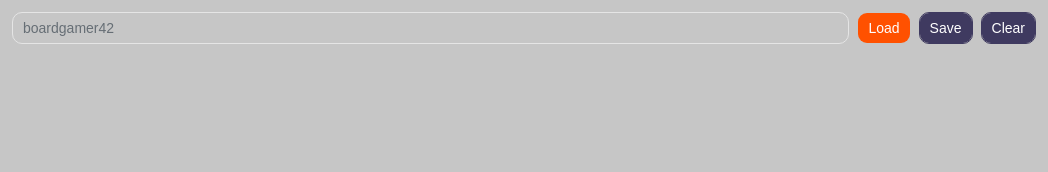
Scenario: UsernameForm › Clear button › Given a saved username, When the user clicks Clear, Then the input is cleared and localStorage is empty
The image size is (1048, 172).
What coordinates should you click on to do the following:
click the button "Clear"
I would click on:
 (1008, 28)
Its box is [980,12,1036,44].
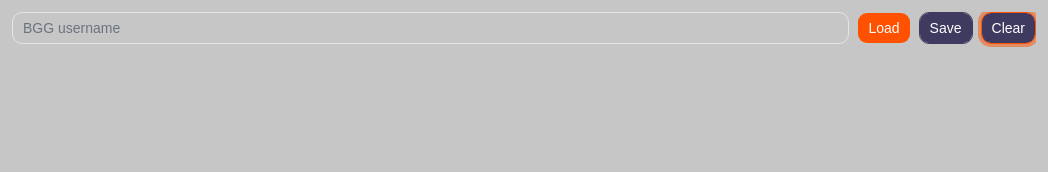
Expected: the field is empty, [12,12,850,44]
